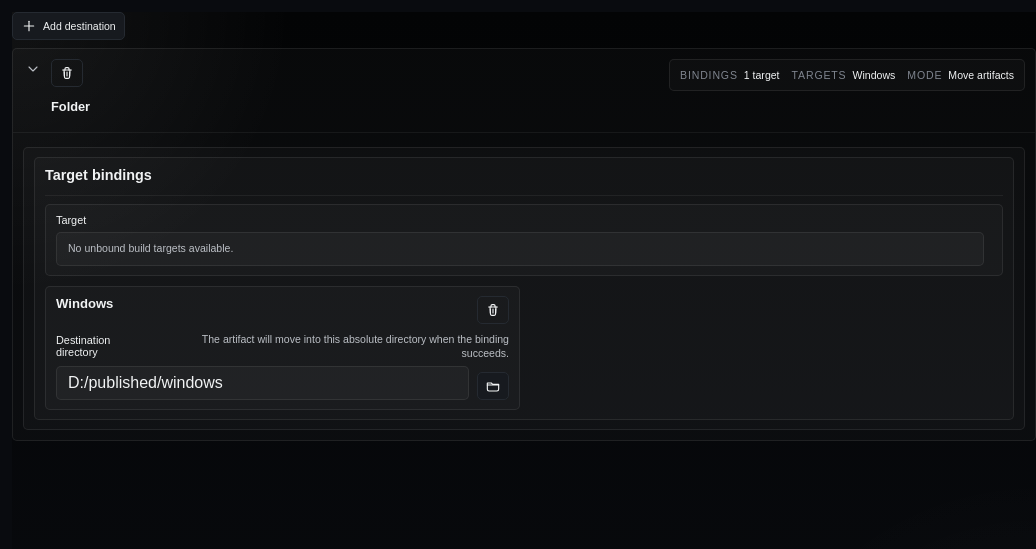
Test: PublishDestinationsEditor interactions › asks for confirmation before removing a destination with bindings
Click the button named "Remove Folder destination" at (67, 73), box left=51, top=59, right=83, bottom=87
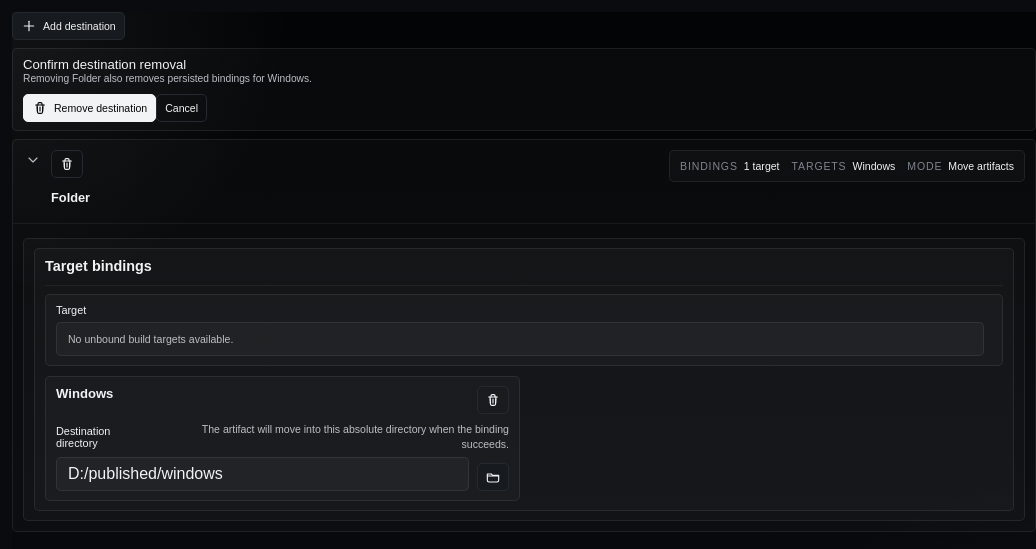
Check: the text "Confirm destination removal" is shown, box left=23, top=57, right=186, bottom=72
Check: the text "Removing Folder also removes persisted bindings for Windows." is shown, box left=23, top=72, right=312, bottom=86
Click the button "Cancel" at (182, 108), box left=156, top=94, right=207, bottom=122
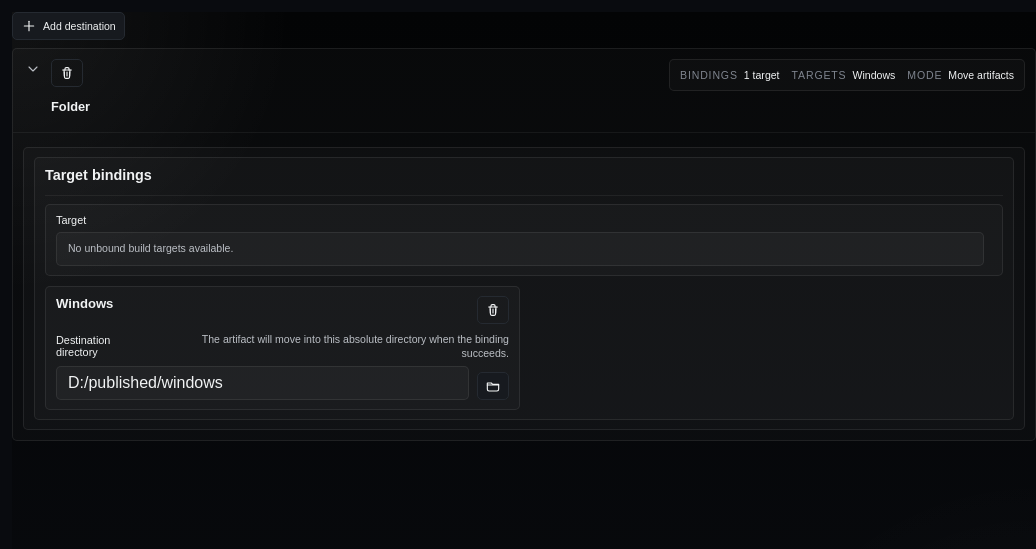
Check: the text "Confirm destination removal" is gone
